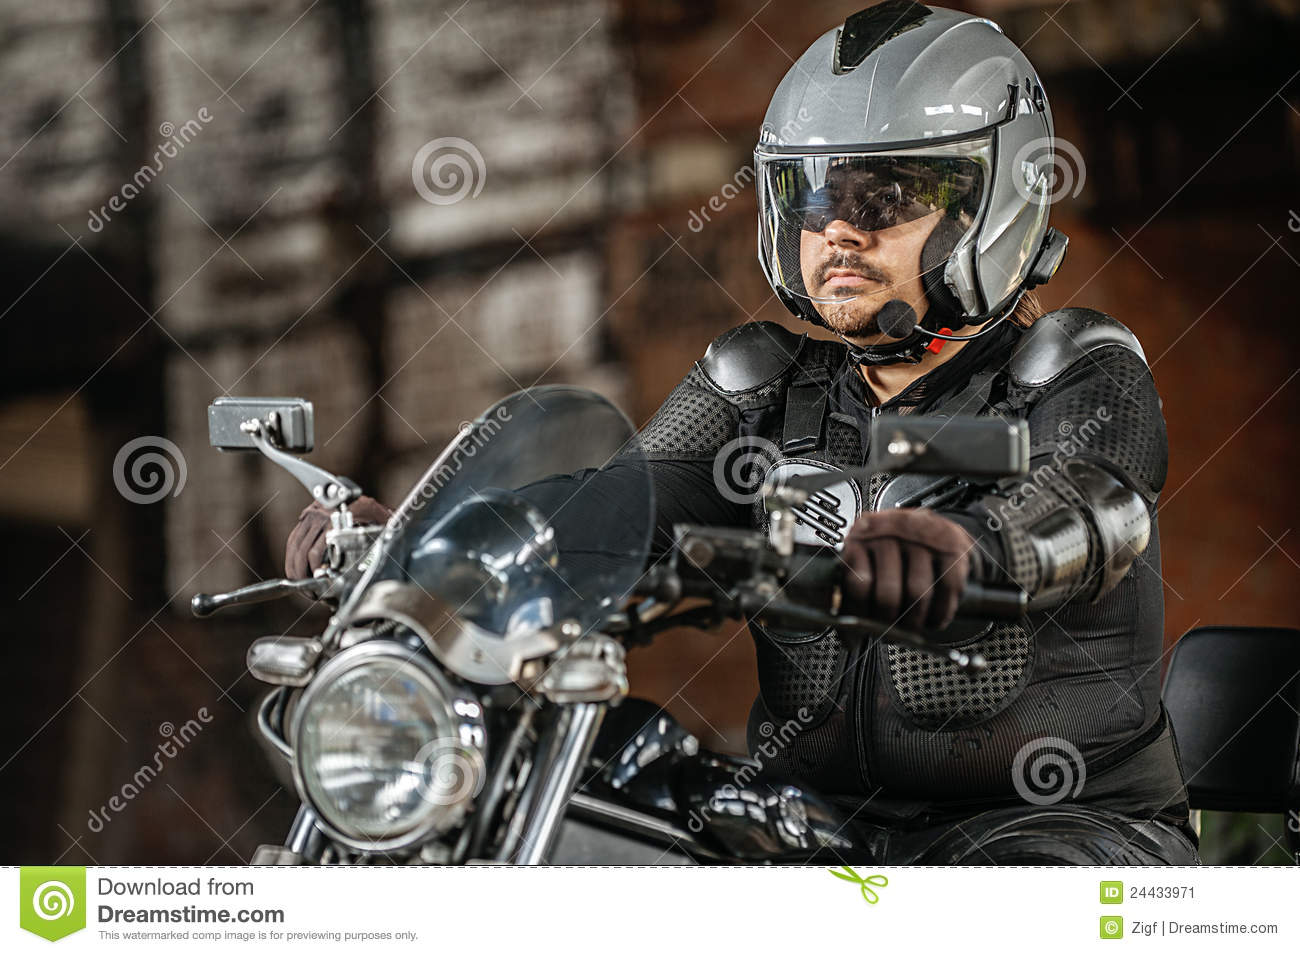helmet: (746, 20, 1071, 334)
